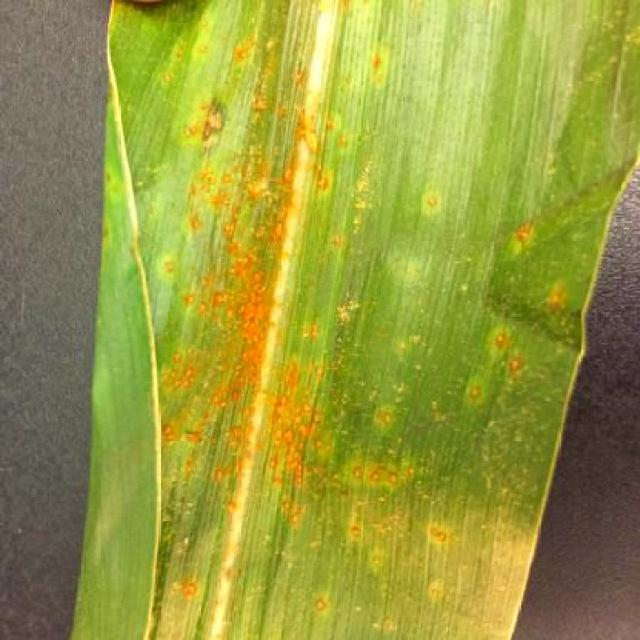Corn_Rust: (87, 9, 596, 640)
